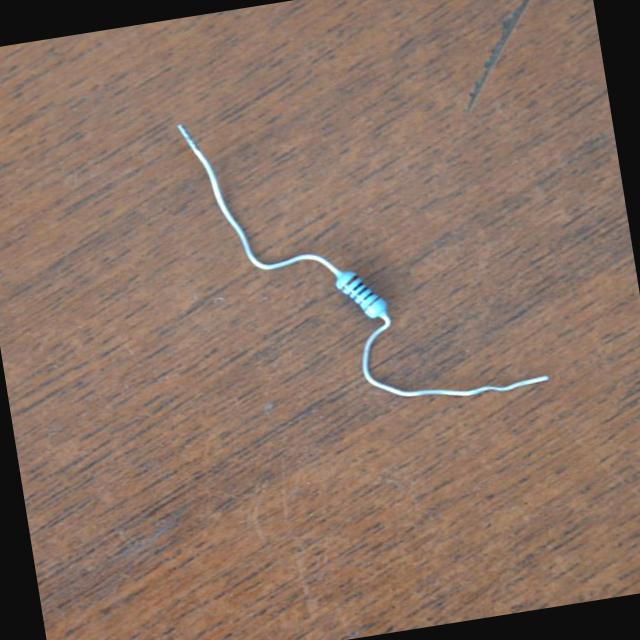Resistor: (329, 267, 389, 326)
black: (347, 282, 364, 297), (352, 287, 367, 301), (358, 292, 372, 305)
brown: (340, 277, 359, 291), (364, 296, 380, 311)
